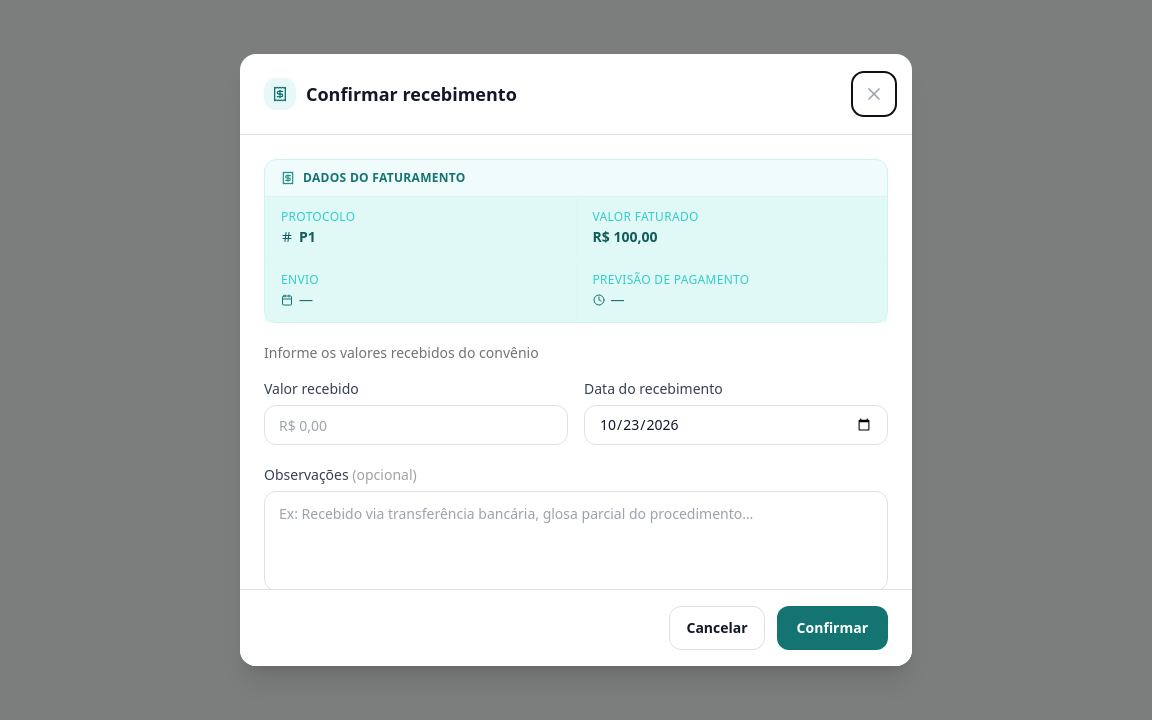
ConfirmReceiptModal — formulário (Zod) › valor divergente leva ao recurso, que exige destinatário
Type "5000" into the field with placeholder "R$ 0,00" at (416, 425), box [264,405,568,445]
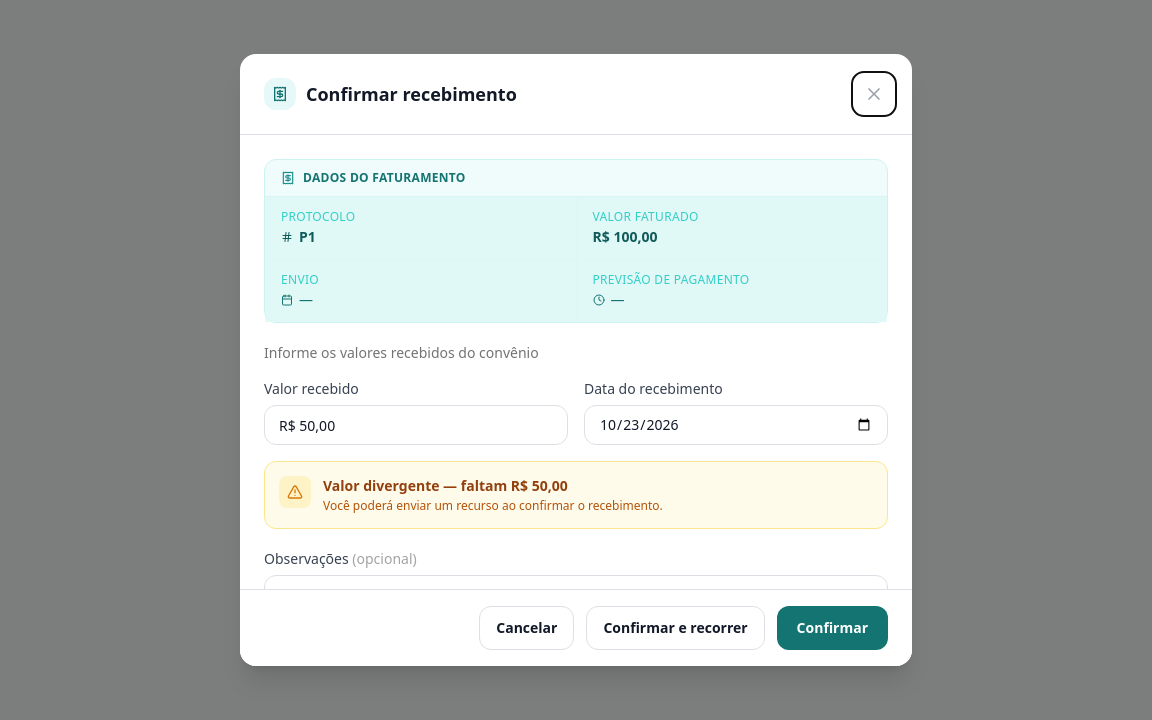
Click the button "Confirmar e recorrer" at (676, 628), box [586,606,765,650]
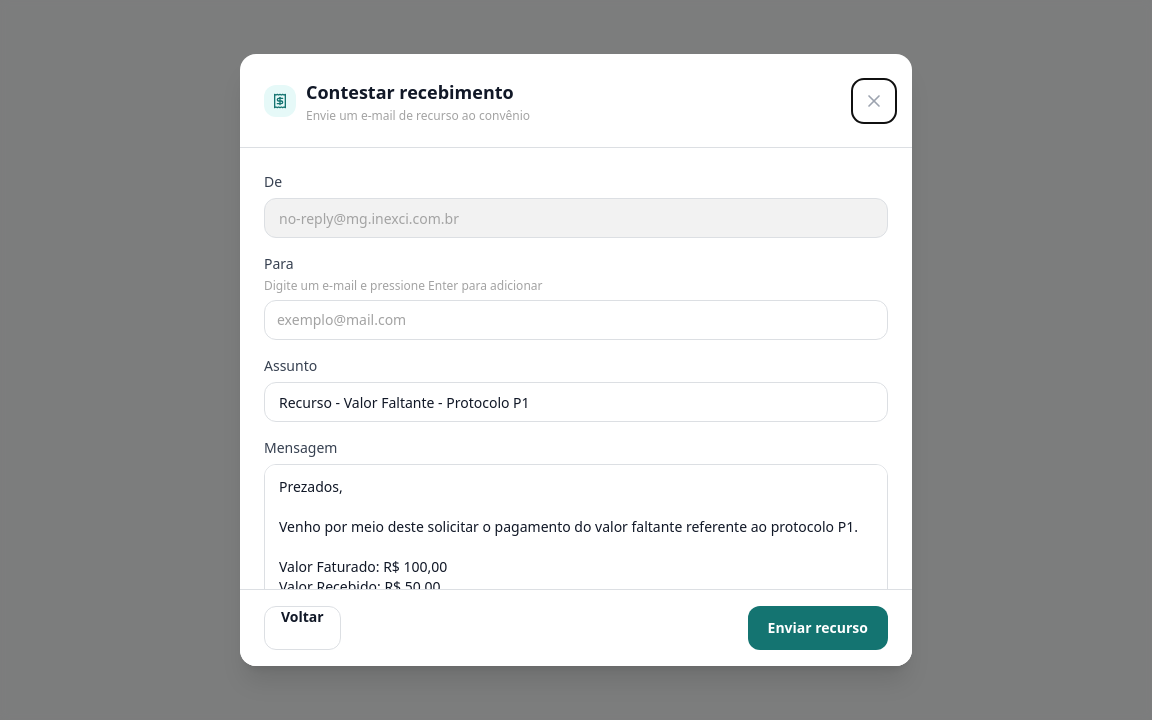
Expected: the text "Contestar recebimento" is shown, [306,78,530,106]
Click the button "Enviar recurso" at (818, 628), box [748,606,888,650]
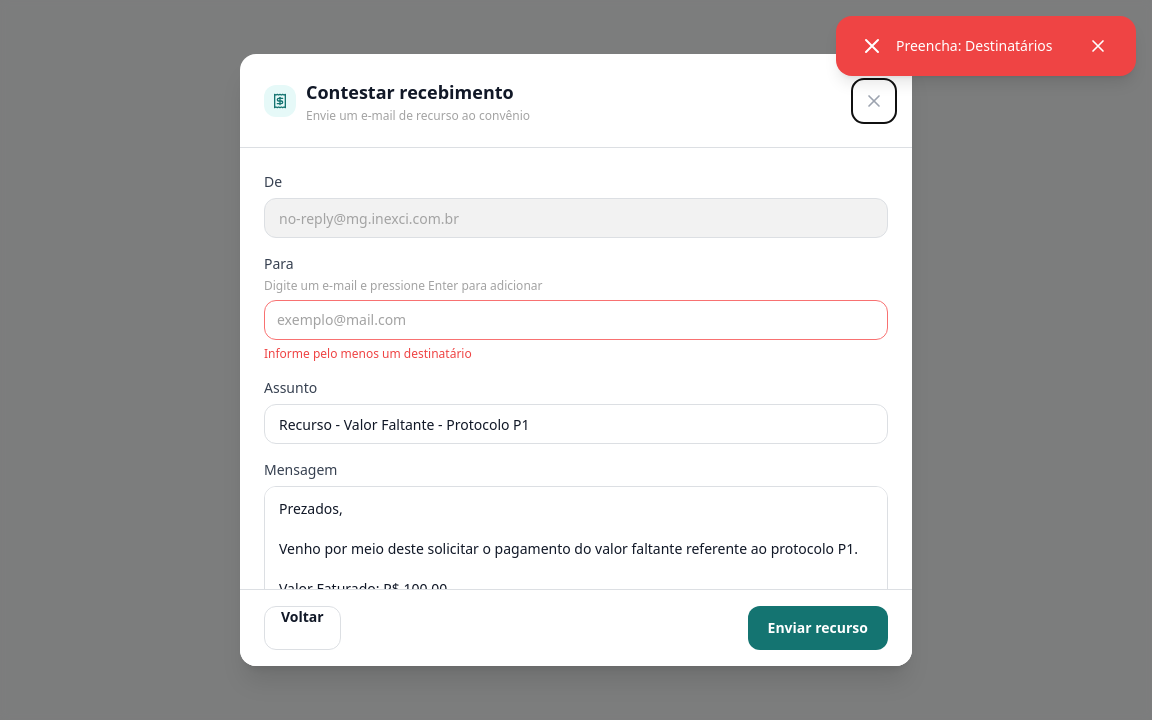
Expected: the text "Preencha: Destinatários" is shown, [896,36,1072,56]
Expected: the text "Informe pelo menos um destinatário" is shown, [264,345,472,362]
